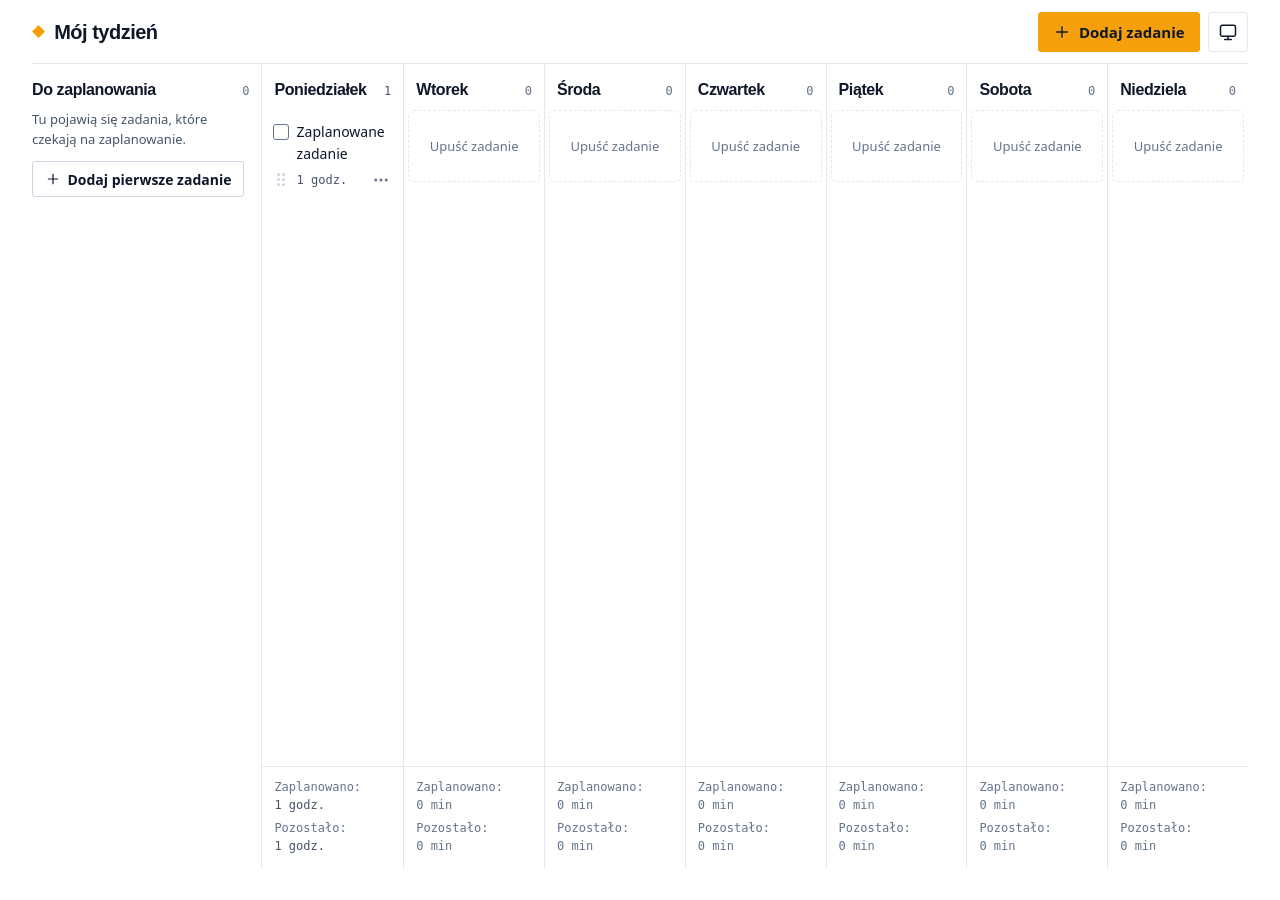
Test: App › updates a day summary immediately after changing status and duration
Expected: the text "Zaplanowano: 1 godz." is shown, left=274, top=780, right=361, bottom=812
Expected: the text "Pozostało: 1 godz." is shown, left=274, top=821, right=347, bottom=853
Click the checkbox named "Oznacz jako wykonane: Zaplanowane zadanie" at (281, 132), box left=272, top=121, right=290, bottom=143
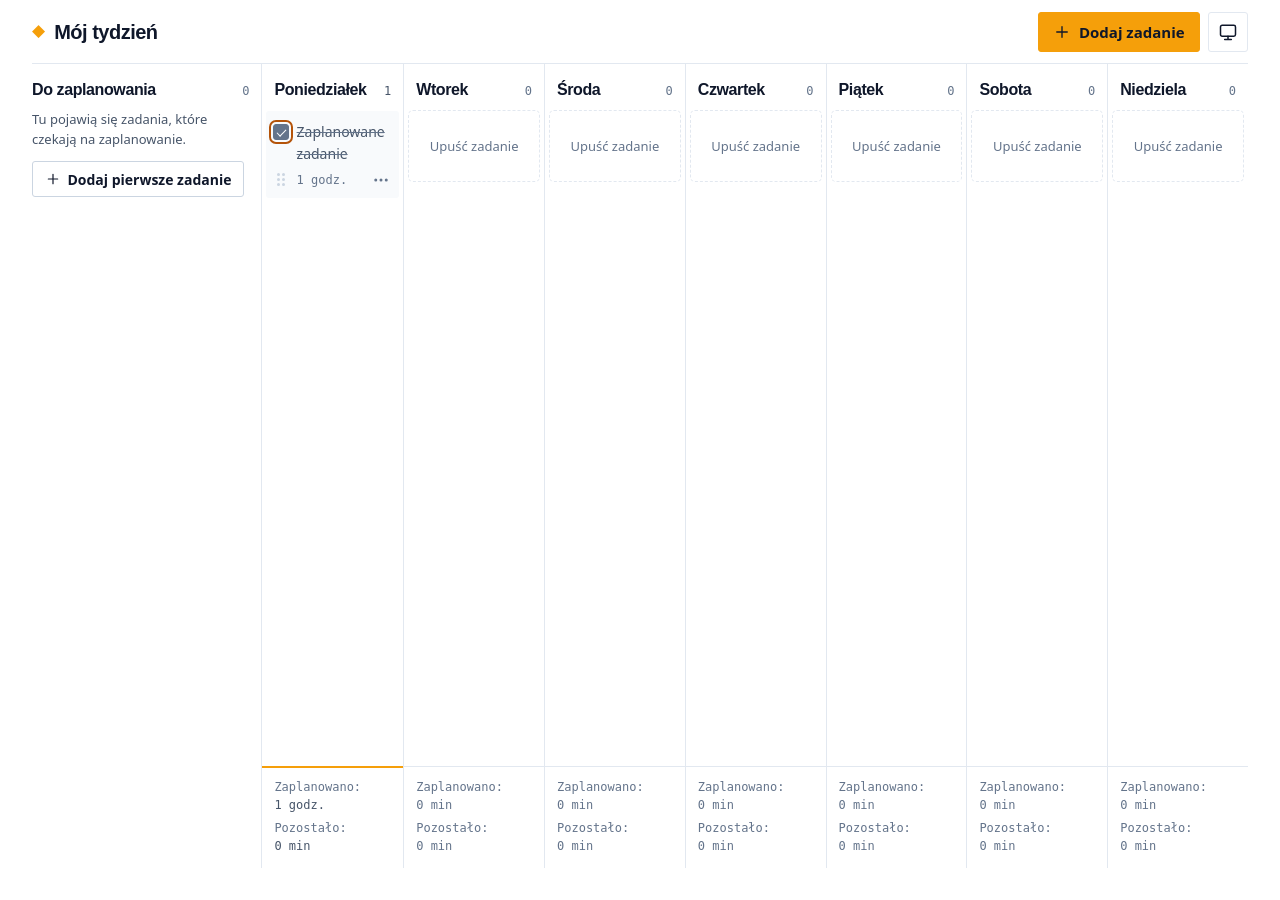
Expected: the text "Zaplanowano: 1 godz." is shown, left=274, top=780, right=361, bottom=812
Expected: the text "Pozostało: 0 min" below "Zaplanowano: 1 godz." is shown, left=274, top=821, right=347, bottom=853
Click the button named "Akcje: Zaplanowane zadanie" at (381, 180), box left=369, top=168, right=393, bottom=192
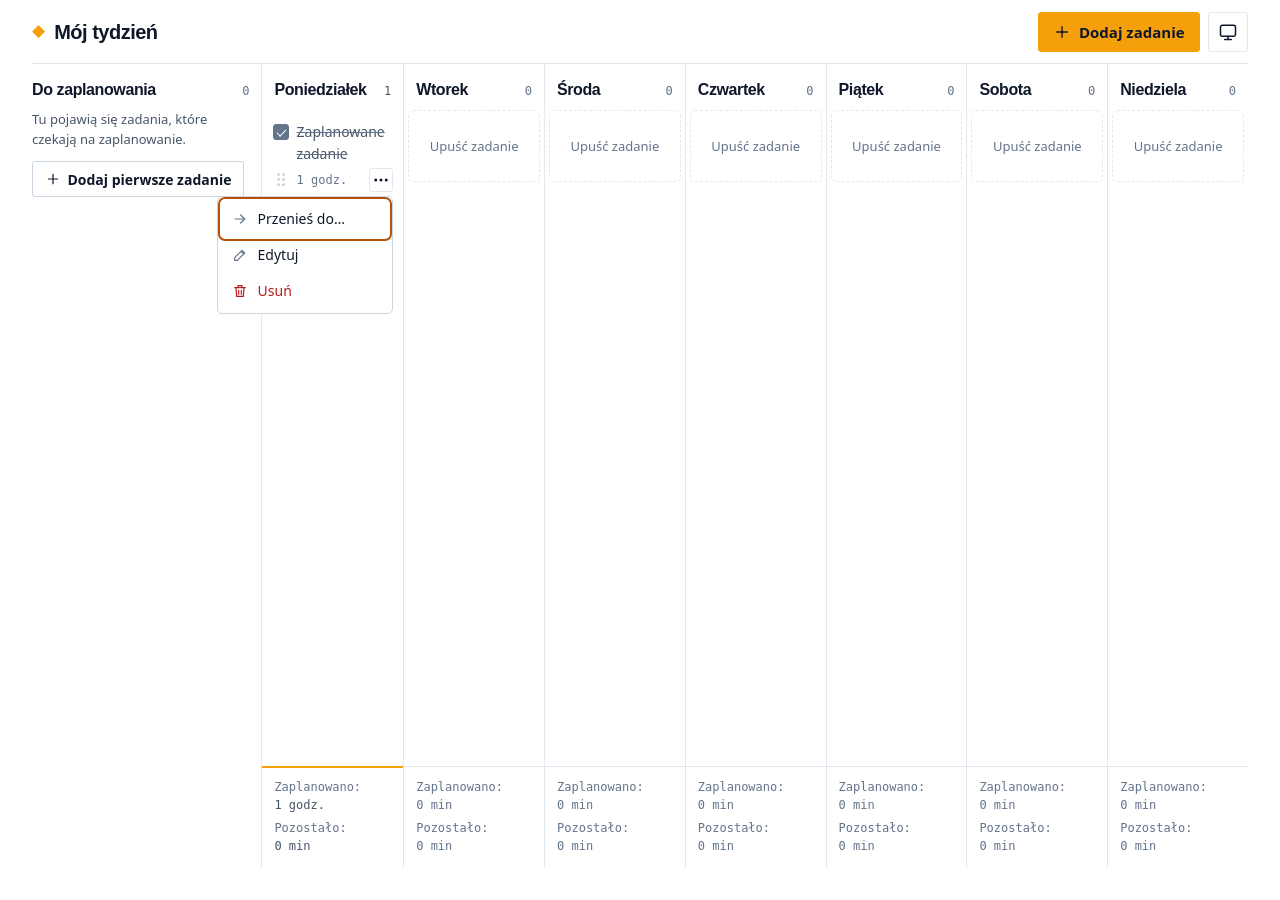
Click the menu item "Edytuj" at (305, 255), box left=222, top=237, right=388, bottom=273
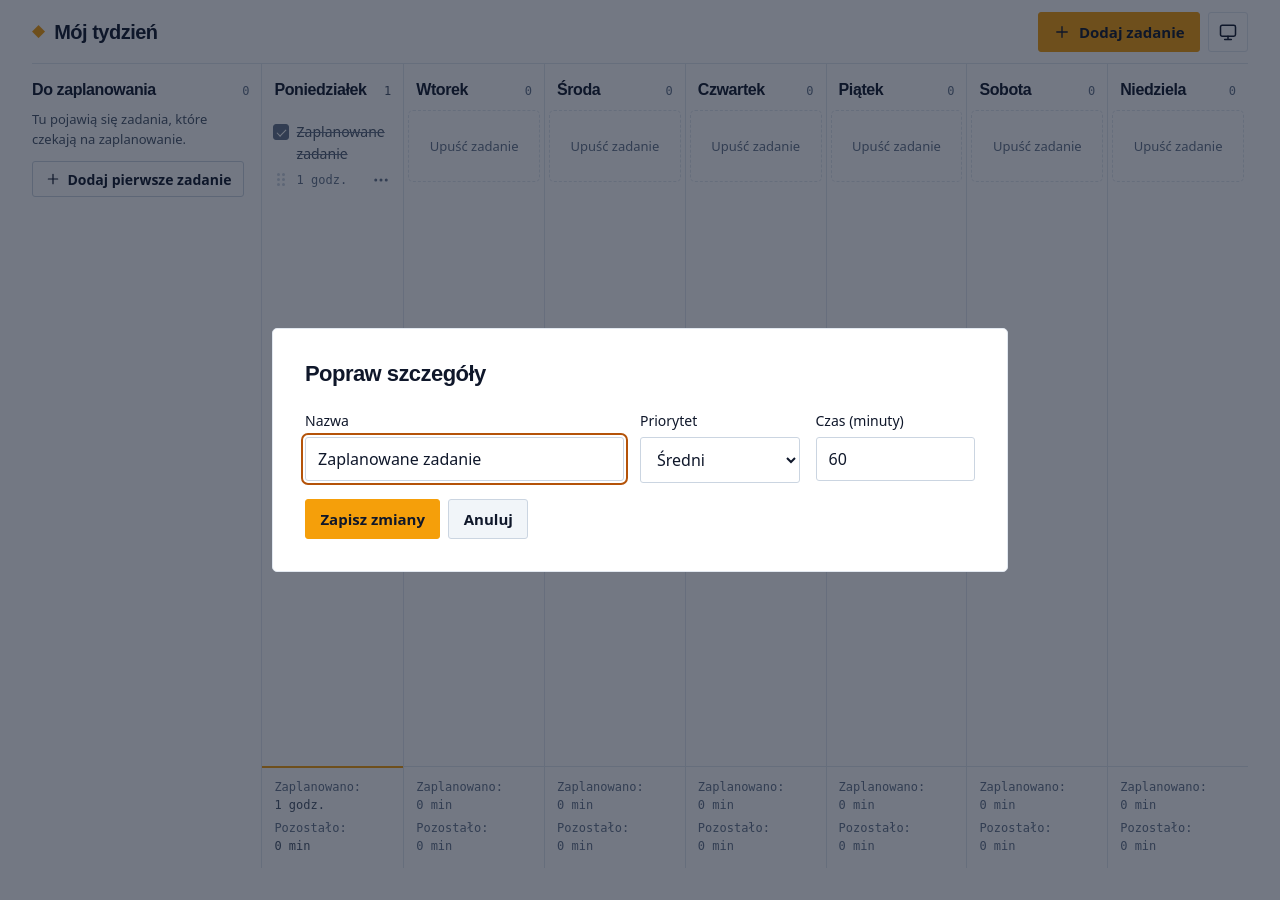
Replace the text in the number field labelled "Czas (minuty)" with "90" at (895, 459), box left=816, top=437, right=975, bottom=482
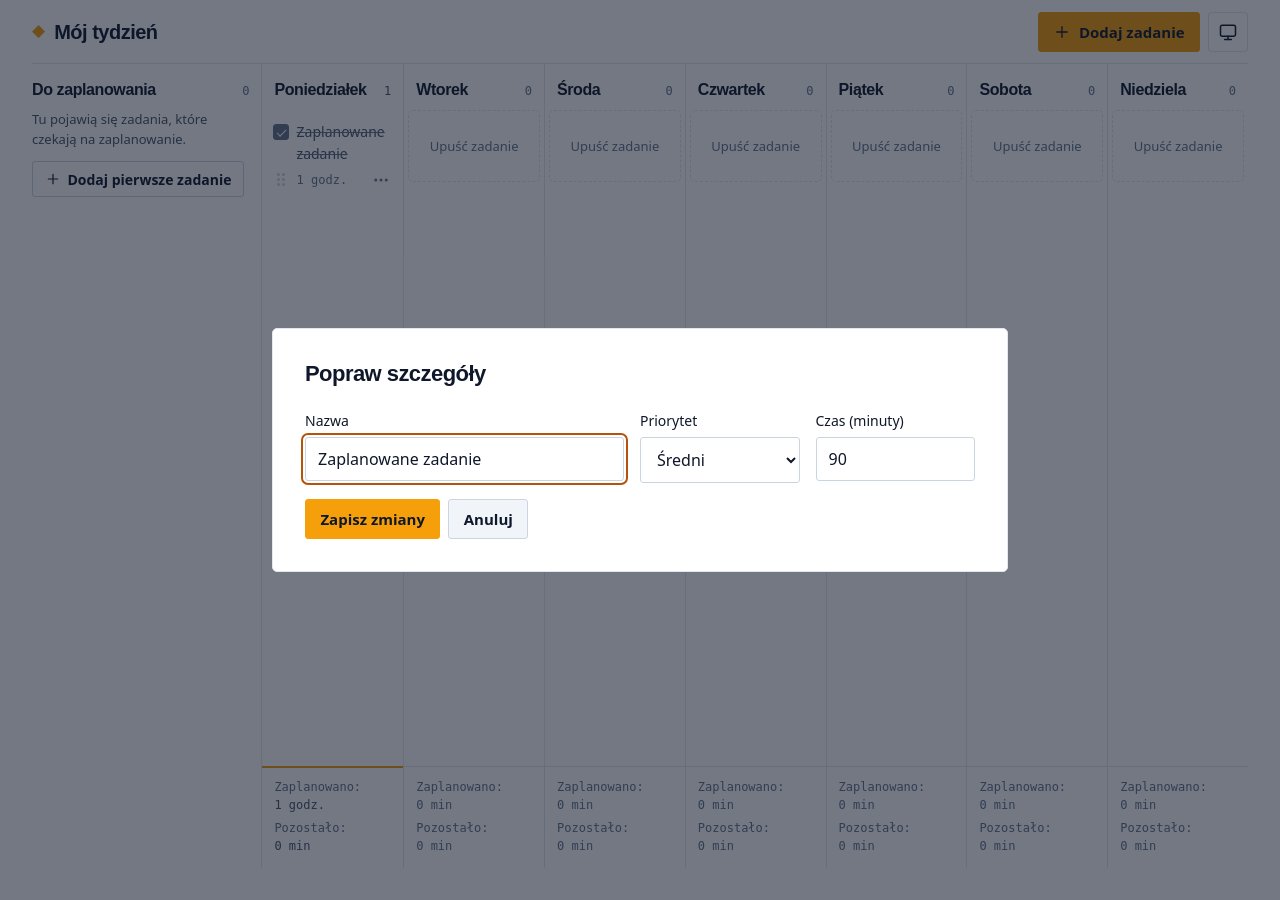
Click the button "Zapisz zmiany" at (373, 520), box left=305, top=500, right=440, bottom=540
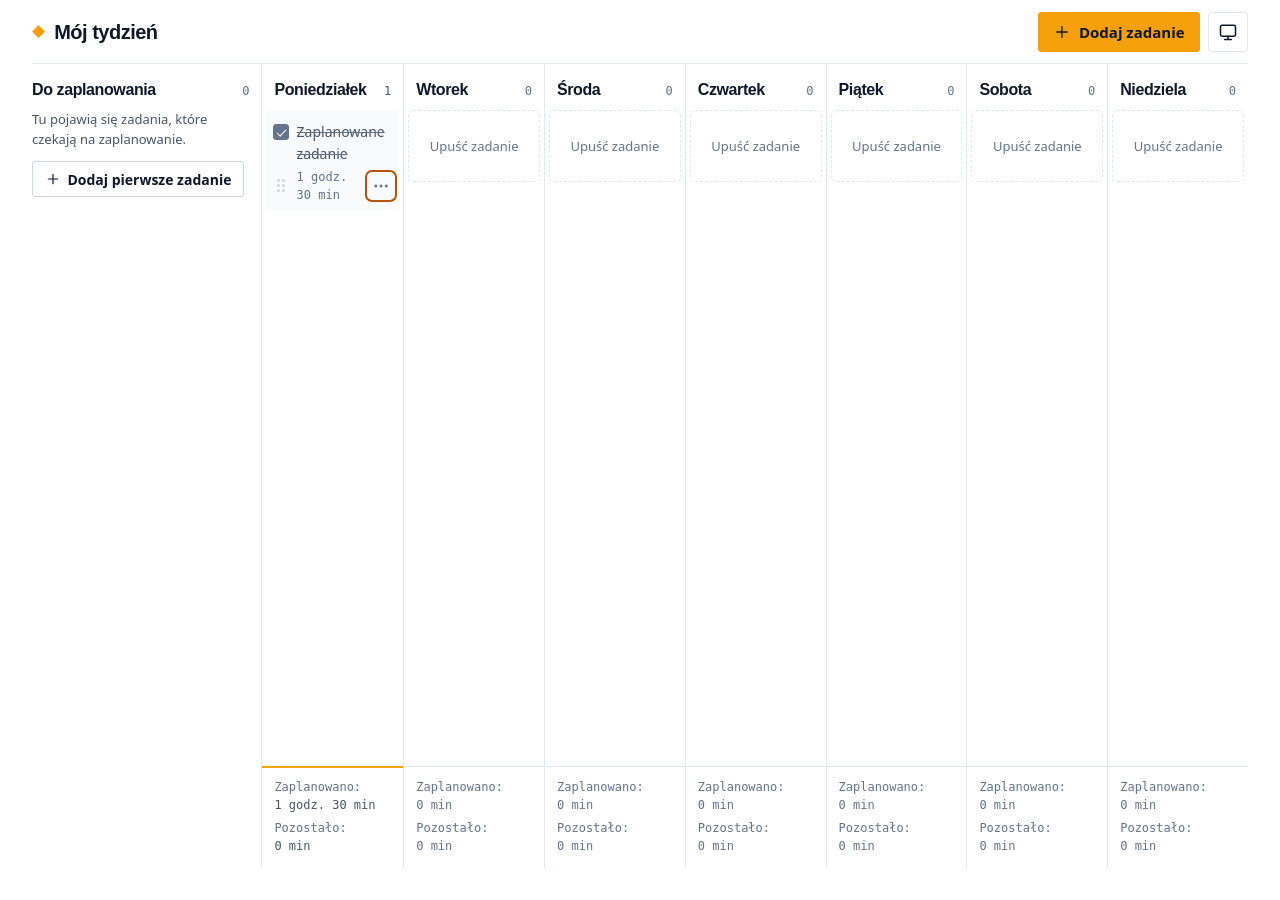
Expected: the text "Pozostało: 0 min" below "Zaplanowano: 1 godz. 30 min" is shown, left=274, top=821, right=347, bottom=853
Expected: the text "Zaplanowano: 1 godz. 30 min" is shown, left=274, top=778, right=391, bottom=814
